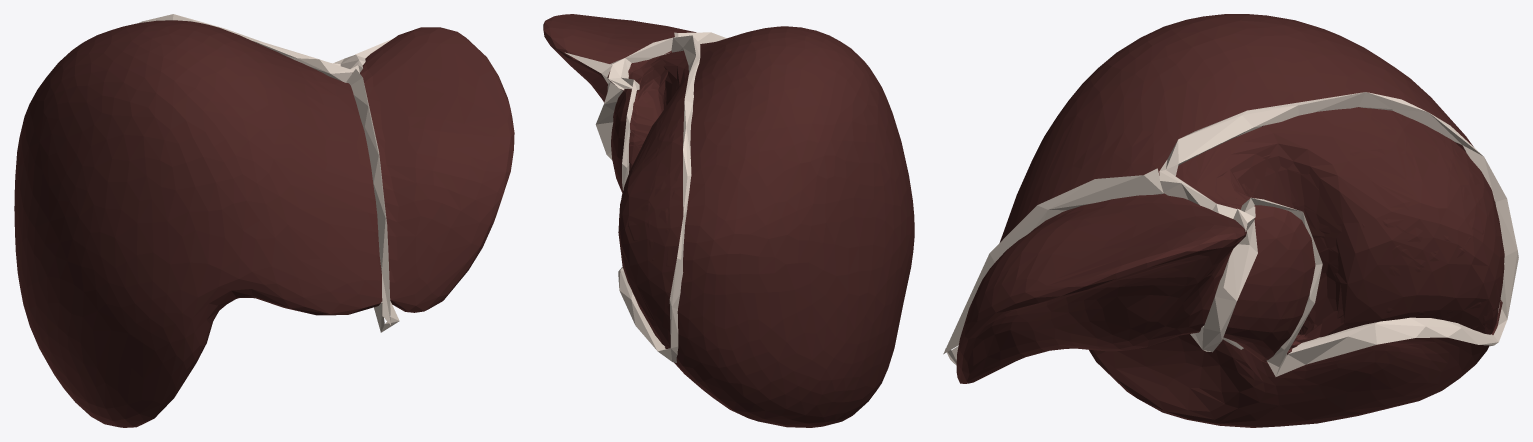
Rendered from VH_M_Liver_0.2.glb.
3 views of the same model, side by side, from view 1: azimuth 30°, elevation 25°; view 2: azimuth 150°, elevation 25°; view 3: azimuth 270°, elevation 25° (orthographic). The views are drawn at different scales.
Parts seen in each view (by area): view 1: VH_M_liver_capsule, VH_M_falciform_ligament, VH_M_coronary_ligament_of_liver; view 2: VH_M_liver_capsule, VH_M_bare_area_of_liver, VH_M_coronary_ligament_of_liver, VH_M_right_posterosuperior_segment, VH_M_caudate_lobe_of_liver, VH_M_ligamentum_venosum, VH_M_diaphragmatic_surface, VH_M_triangular_ligament_of_liver, VH_M_right_posteroinferior_segment, VH_M_falciform_ligament; view 3: VH_M_liver_capsule, VH_M_bare_area_of_liver, VH_M_coronary_ligament_of_liver, VH_M_right_posterosuperior_segment, VH_M_falciform_ligament, VH_M_caudate_lobe_of_liver, VH_M_diaphragmatic_surface, VH_M_ligamentum_venosum.
Boxes of the visible parts, x1,y1,x2,y2 form: VH_M_liver_capsule: (14, 20, 514, 427); VH_M_falciform_ligament: (346, 69, 390, 324); VH_M_coronary_ligament_of_liver: (138, 14, 365, 82); VH_M_liver_capsule: (543, 14, 914, 427); VH_M_bare_area_of_liver: (618, 50, 688, 346); VH_M_coronary_ligament_of_liver: (608, 35, 700, 362); VH_M_right_posterosuperior_segment: (619, 106, 683, 318); VH_M_caudate_lobe_of_liver: (629, 53, 686, 155); VH_M_ligamentum_venosum: (595, 78, 623, 159); VH_M_diaphragmatic_surface: (630, 75, 676, 339); VH_M_triangular_ligament_of_liver: (565, 52, 613, 83); VH_M_right_posteroinferior_segment: (641, 310, 670, 346); VH_M_falciform_ligament: (674, 32, 726, 43); VH_M_liver_capsule: (956, 14, 1502, 427); VH_M_bare_area_of_liver: (1177, 107, 1504, 342); VH_M_coronary_ligament_of_liver: (1159, 92, 1518, 376); VH_M_right_posterosuperior_segment: (1342, 109, 1504, 318); VH_M_falciform_ligament: (943, 168, 1163, 354); VH_M_caudate_lobe_of_liver: (1186, 125, 1349, 347); VH_M_diaphragmatic_surface: (1224, 157, 1493, 349); VH_M_ligamentum_venosum: (1190, 218, 1257, 352).
Bounding box in the file's own units: 0.1916 × 0.1748 × 0.2031.
